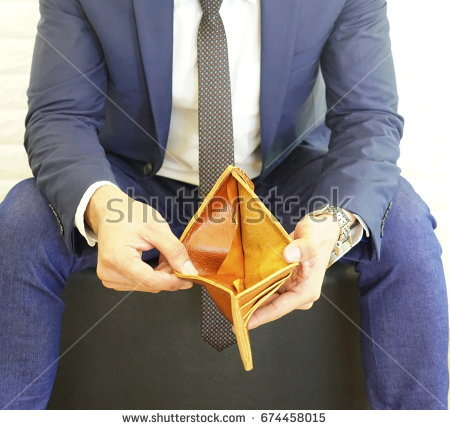monedero: (170, 164, 304, 377)
